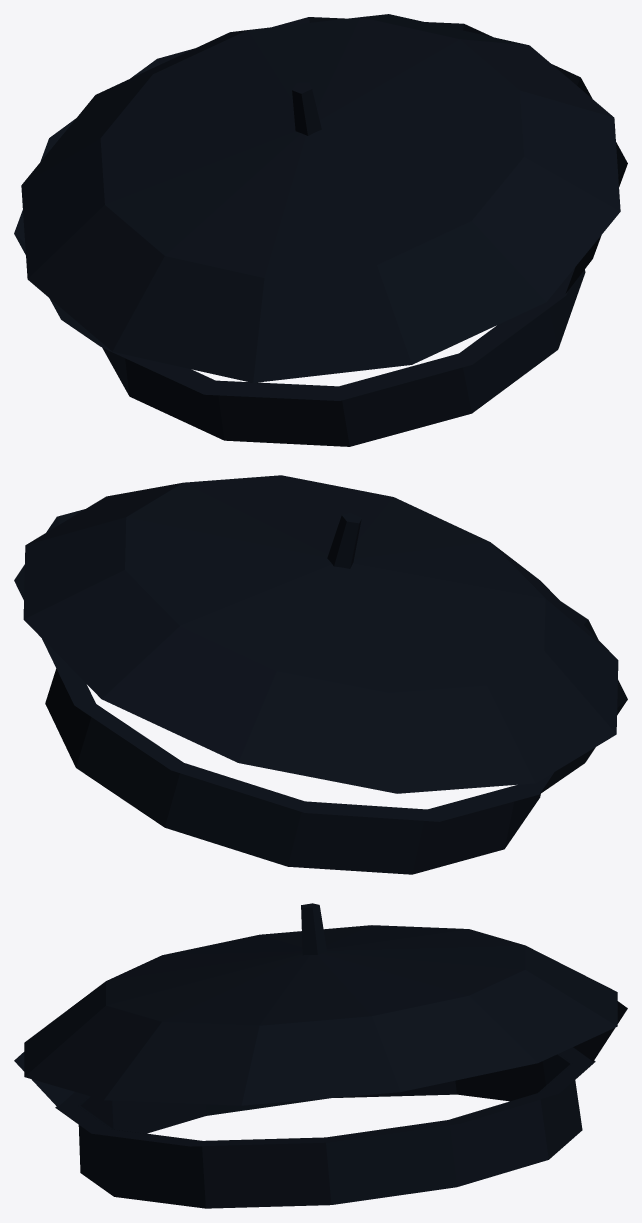
File: beret.glb
3 renders of one model, top to bottom at view 1: azimuth 30°, elevation 25°; view 2: azimuth 150°, elevation 25°; view 3: azimuth 270°, elevation 25°, orthographic. The views are drawn at different scales.
Visible parts, largest first — view 1: beret; view 2: beret; view 3: beret.
Part boxes in pixels (box(x1,y1,x2,y2)): beret: box(14, 14, 627, 446); beret: box(14, 475, 627, 874); beret: box(14, 903, 627, 1208).
Bounding box in the file's own units: 0.3365 × 0.1757 × 0.3564.
1 material, 1 textured.
